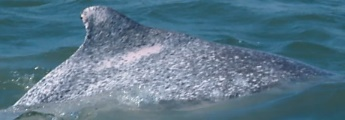fin: (15, 3, 337, 113)
